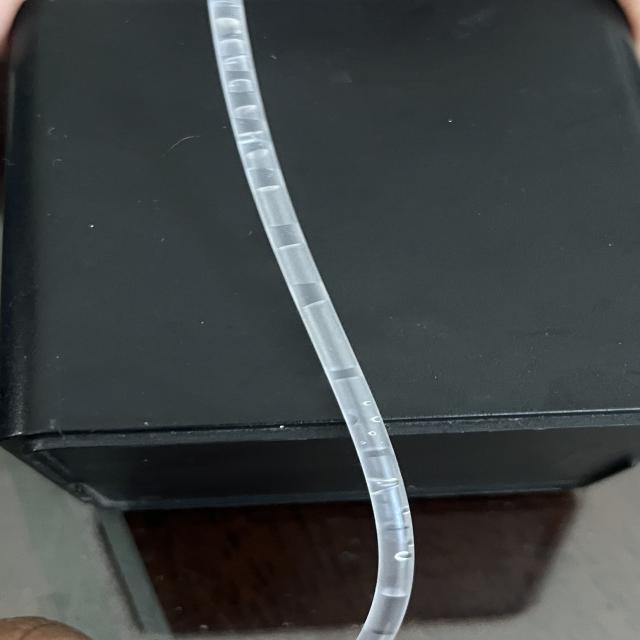bubble: (234, 181, 320, 232), (264, 237, 332, 293), (222, 145, 302, 178), (202, 106, 299, 126), (195, 14, 262, 40), (210, 72, 268, 96)
